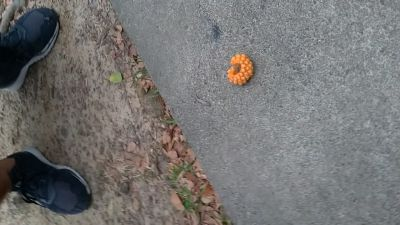eggs: (225, 53, 256, 87)
